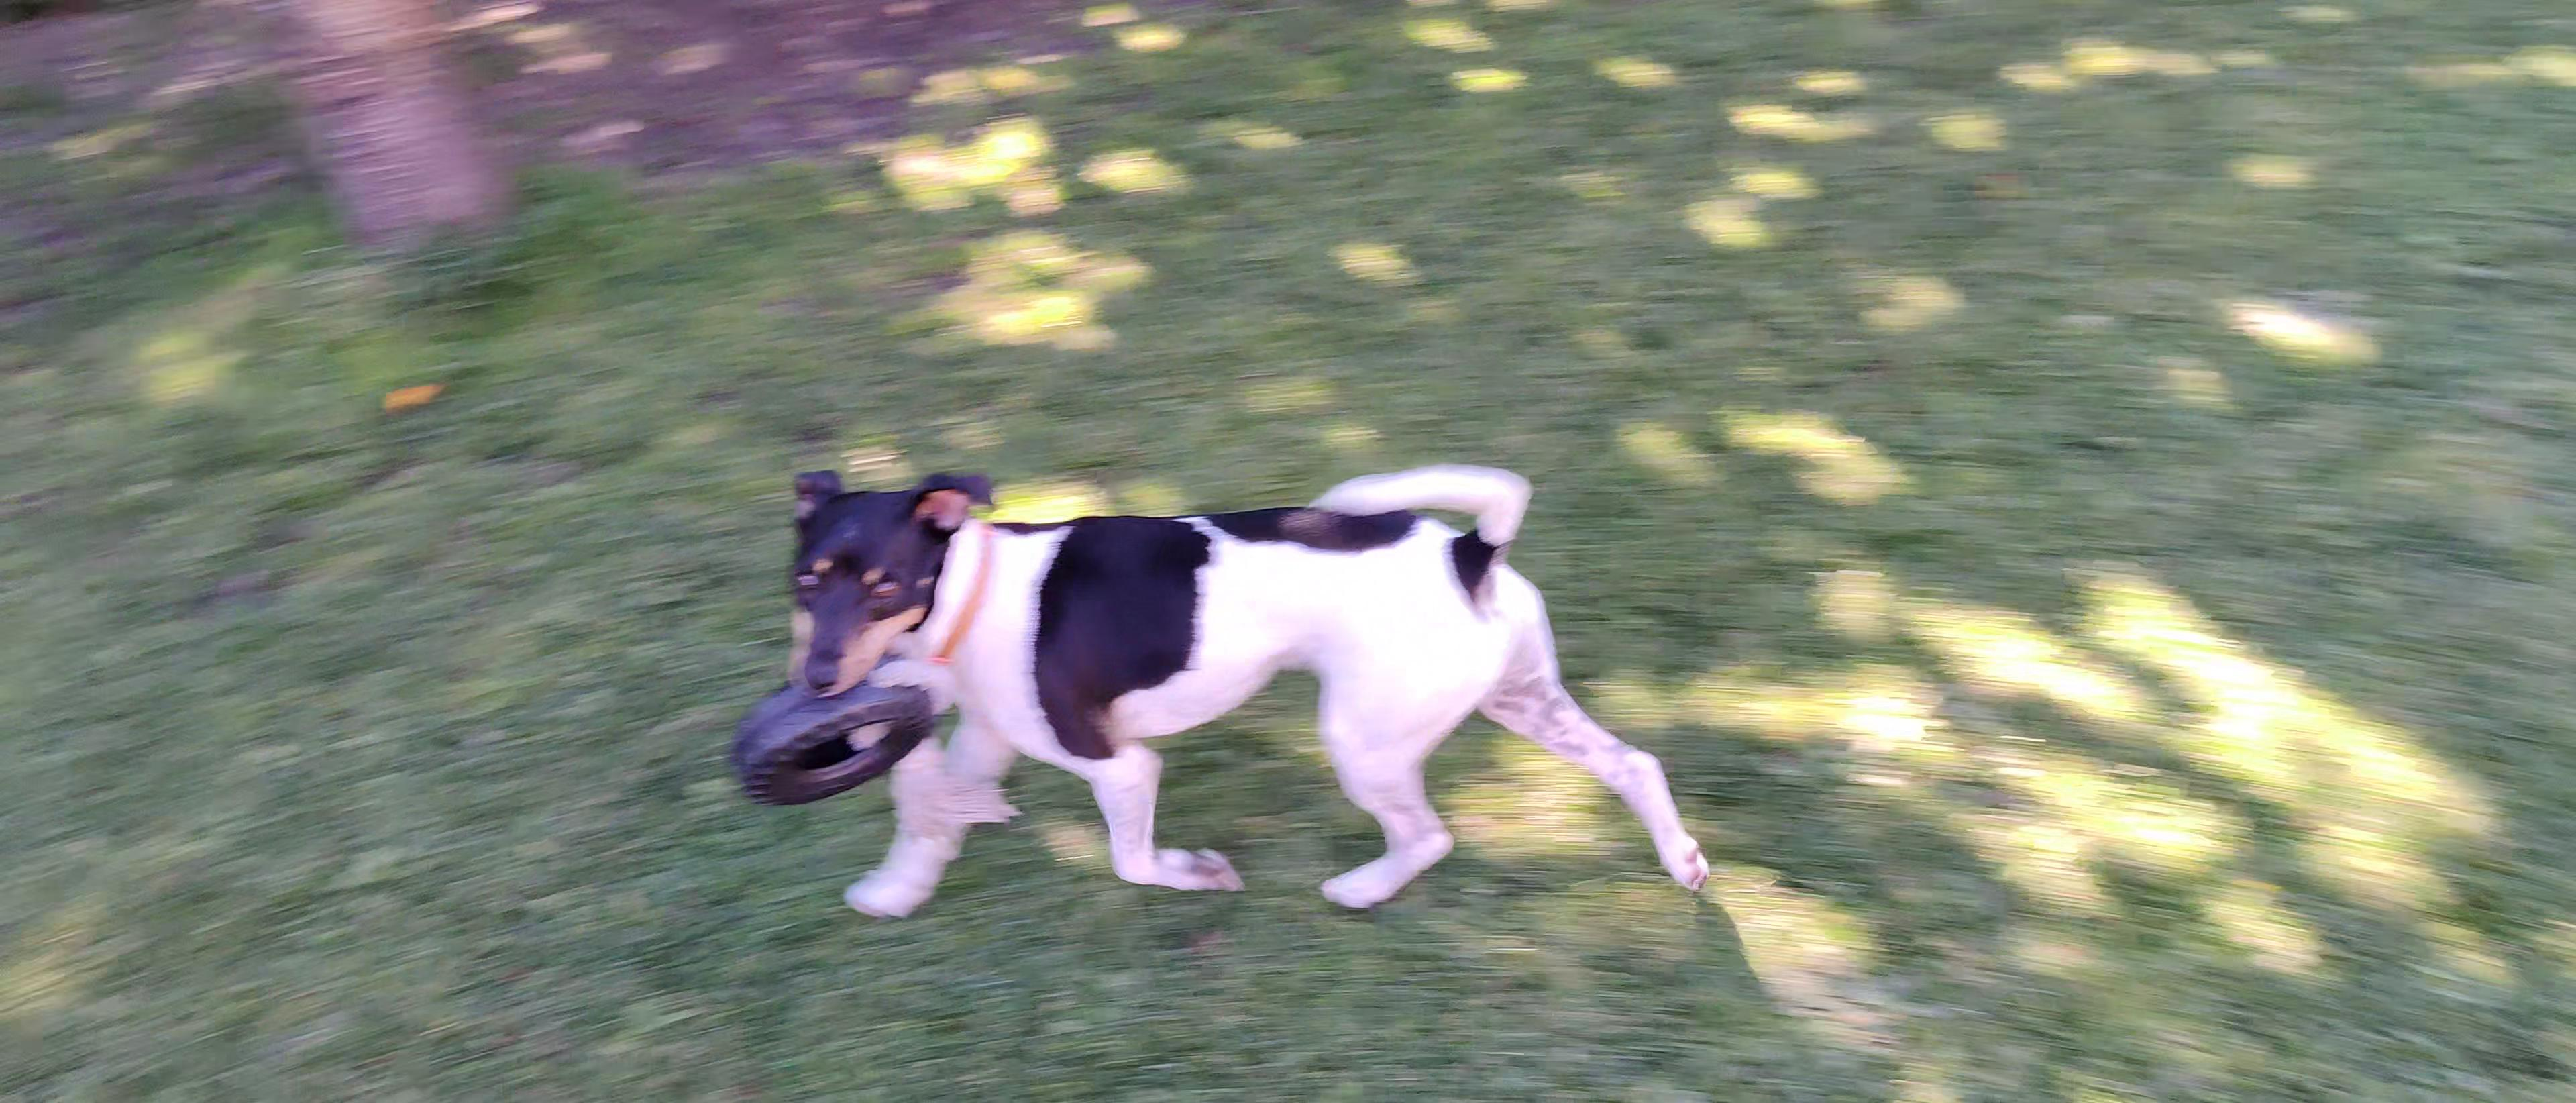Dog: (775, 454, 1718, 929)
